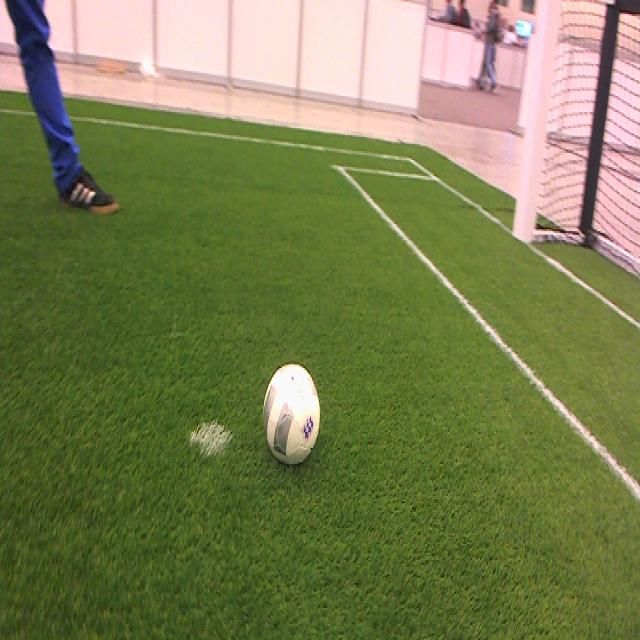ball: (262, 364, 322, 462)
goalpost: (514, 16, 557, 240)
